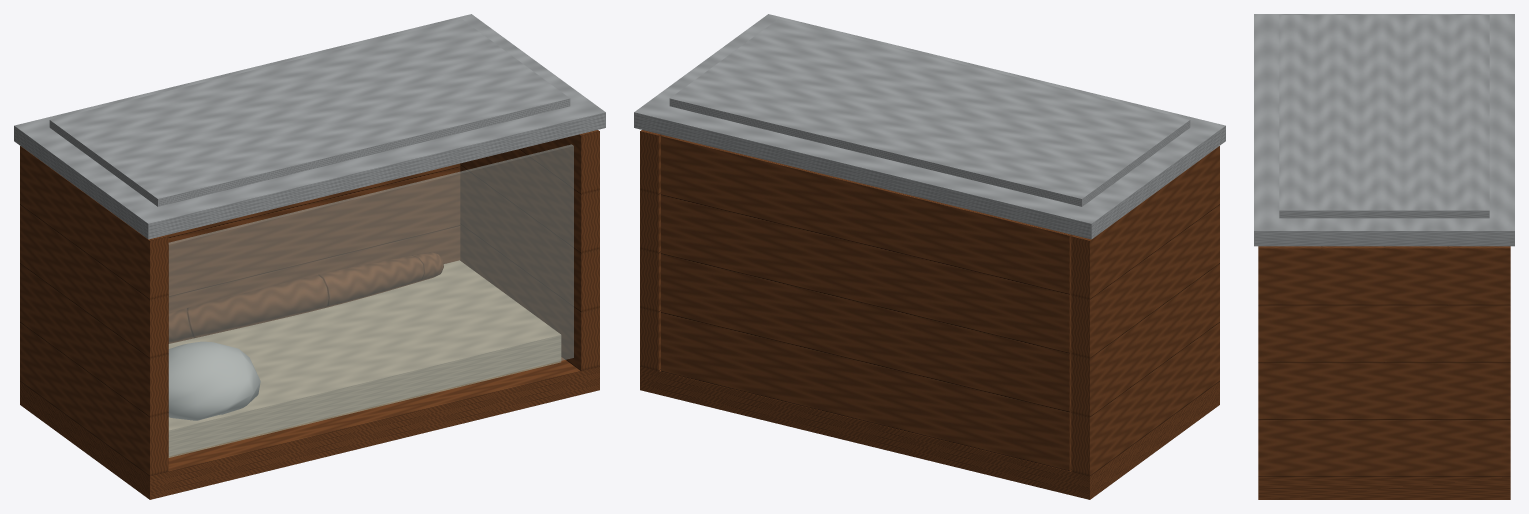
The model's file is birds-and-reptiles-hd-vivarium-terrarium-6936a504__28127.glb.
3 views of the same model, side by side, from view 1: azimuth 30°, elevation 25°; view 2: azimuth 150°, elevation 25°; view 3: azimuth 270°, elevation 25° (orthographic). The views are drawn at different scales.
Visible parts, largest first — view 1: vivarium-terrarium, hood-vivarium; view 2: vivarium-terrarium, hood-vivarium; view 3: vivarium-terrarium, hood-vivarium.
Part boxes in pixels (x1=…): vivarium-terrarium: x1=20, y1=130, x2=599, y2=499; hood-vivarium: x1=14, y1=14, x2=605, y2=239; vivarium-terrarium: x1=640, y1=130, x2=1219, y2=499; hood-vivarium: x1=634, y1=14, x2=1225, y2=239; vivarium-terrarium: x1=1258, y1=246, x2=1510, y2=499; hood-vivarium: x1=1254, y1=14, x2=1514, y2=246.
Bounding box in the file's own units: 1.22 × 0.735 × 0.6201.
Materials: 5 (3 with a texture image).
